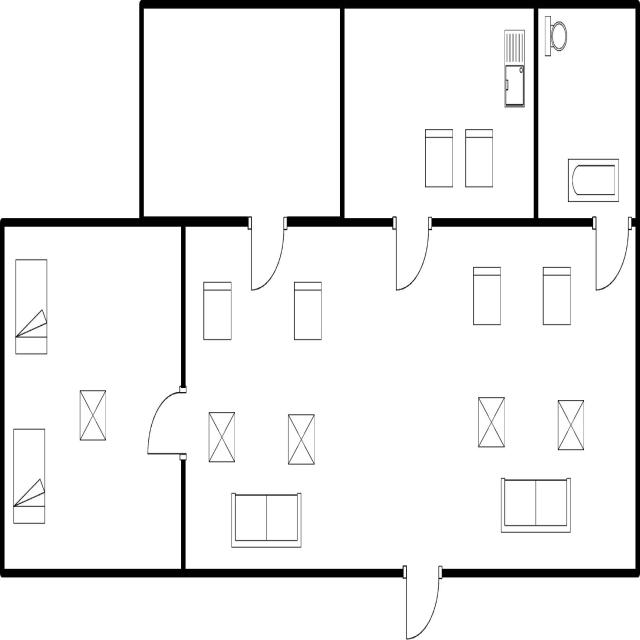bed: (10, 252, 50, 361), (10, 420, 48, 532)
coffee_table: (552, 392, 589, 458), (205, 405, 239, 471), (74, 383, 108, 448), (285, 408, 317, 471), (476, 392, 506, 452)
large_sink: (541, 11, 569, 66)
large_sofa: (498, 470, 575, 540), (227, 485, 305, 551)
sink: (501, 23, 527, 112)
small_sofa: (461, 119, 497, 194), (421, 120, 457, 194), (468, 260, 504, 334), (538, 260, 574, 332), (291, 276, 326, 350), (199, 276, 235, 346)
tub: (564, 150, 622, 210)
